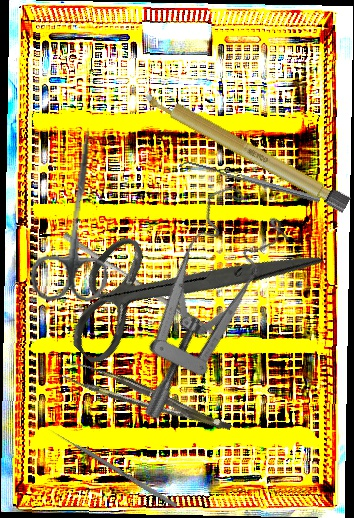Iris Scissors: (42, 147, 323, 428), (28, 124, 123, 307)
Pusher: (58, 231, 218, 335), (47, 426, 178, 509)
Scalpel Handle: (141, 86, 352, 214)
Spatula Surgical: (178, 157, 321, 208)
Speculum: (64, 170, 326, 425)
Tissue Forceps: (62, 351, 232, 451)
